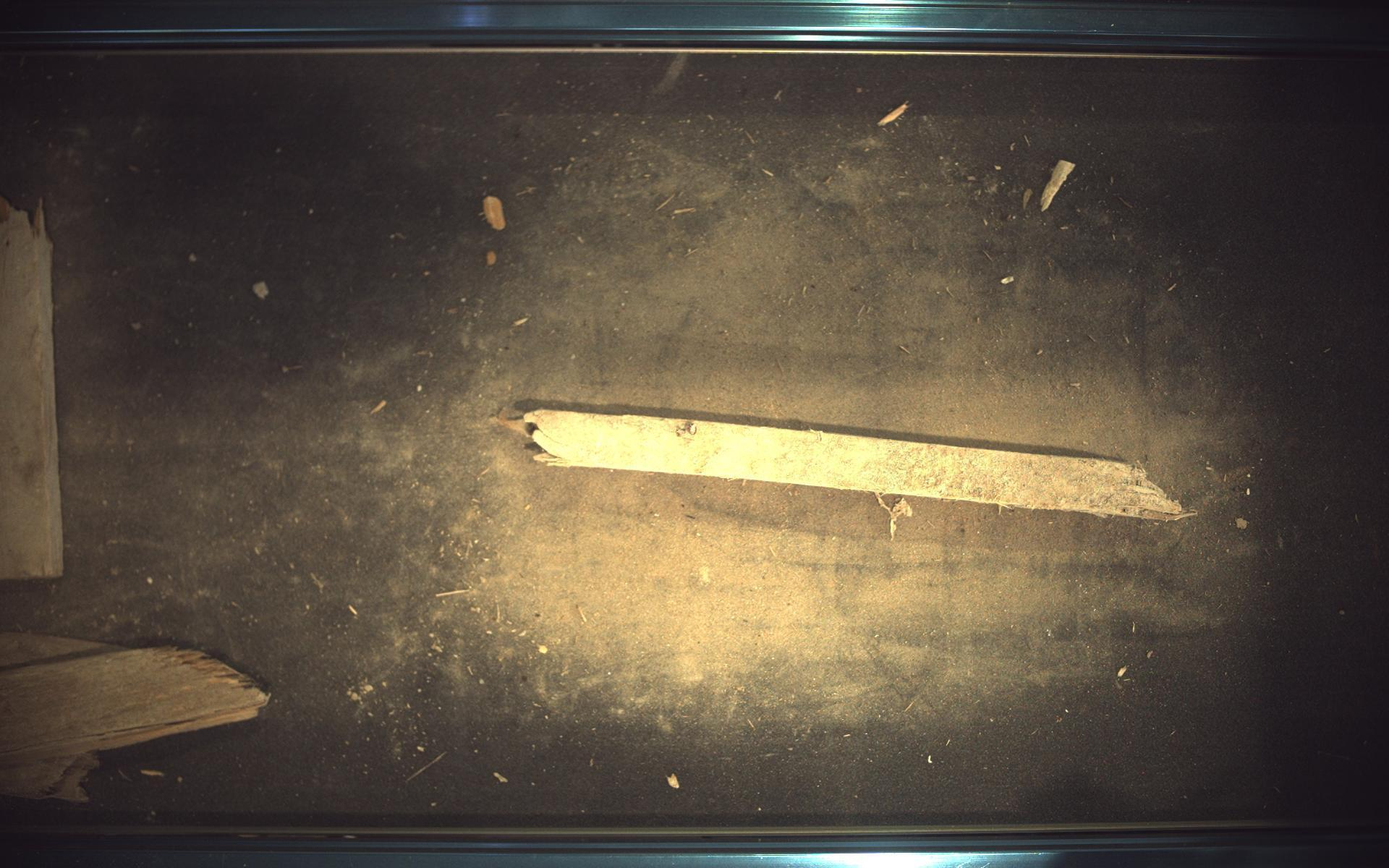wood: (524, 409, 1189, 520), (1, 197, 61, 580)
